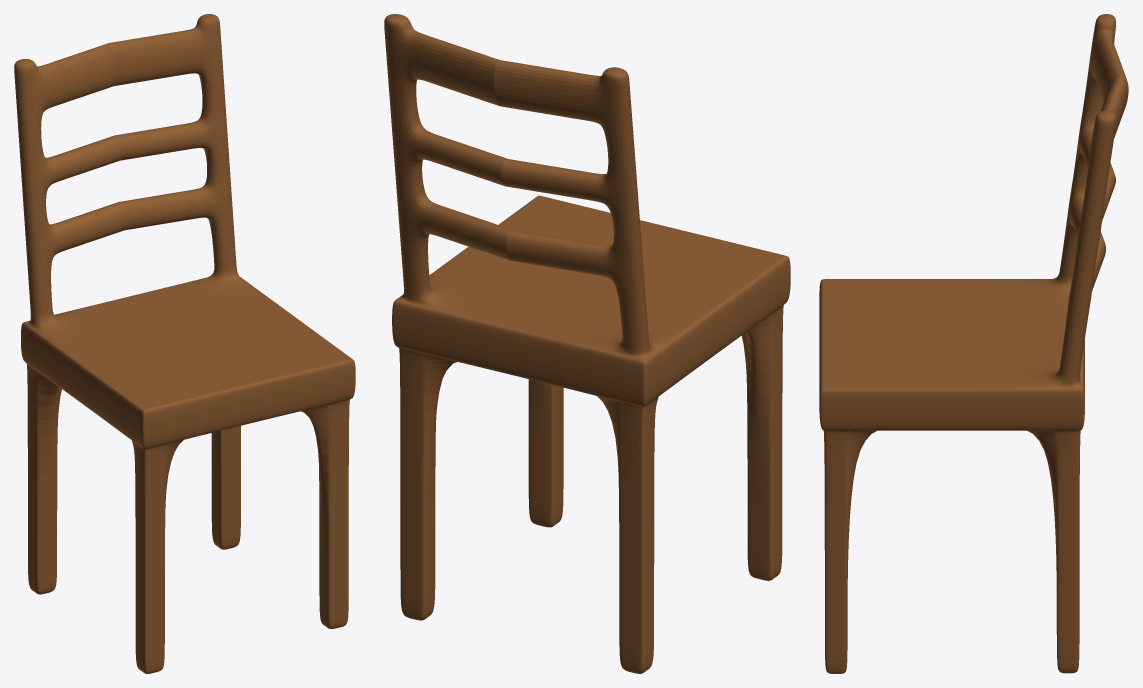
The model's file is Chair.fbx.
3 views of the same model, side by side, from view 1: azimuth 30°, elevation 25°; view 2: azimuth 150°, elevation 25°; view 3: azimuth 270°, elevation 25° (orthographic). The views are drawn at different scales.
Parts seen in each view (by area): view 1: Chair; view 2: Chair; view 3: Chair.
Part boxes in pixels (x1,y1,x2,y2): Chair: (14, 14, 355, 673); Chair: (384, 14, 790, 673); Chair: (819, 14, 1128, 673).
Size of the model in its own units: 57.48 by 133 by 66.91.
